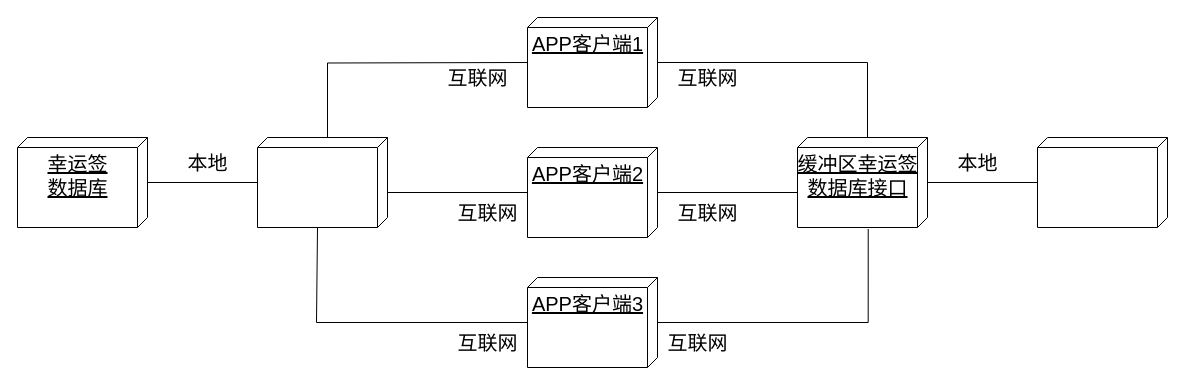
The diagram is 1185 pixels wide and 385 high, and some of its shapes have lost their labels. Each missing label, with the box of its shape:
幸运签 数据库接口: (256, 136, 388, 228)
缓冲区幸运签 数据库: (1036, 136, 1168, 228)
